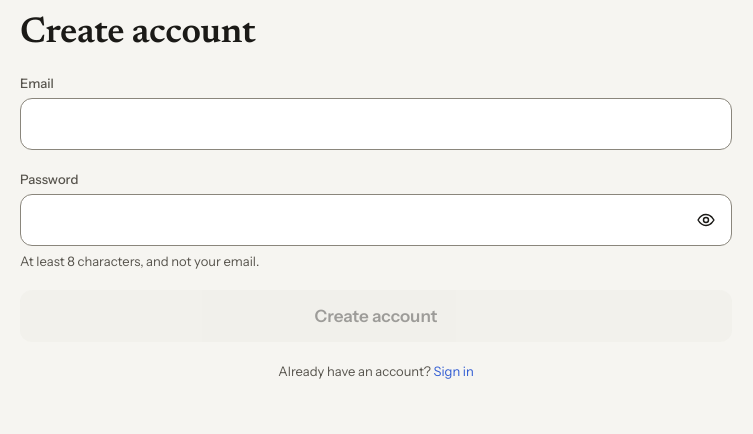
Test: Create account (AA-1) › shows the rate limit with the seconds to wait
The image size is (753, 434).
Type "example@gmail.com" into the field labelled "Email". click: (376, 124)
box: x1=20 y1=98 x2=732 y2=150
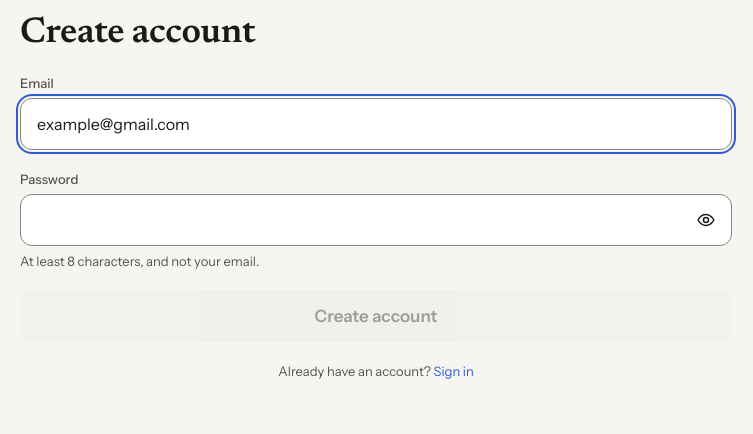
Type "quiet river 42" into the password field labelled "Password". click: (376, 220)
box: x1=20 y1=194 x2=732 y2=246
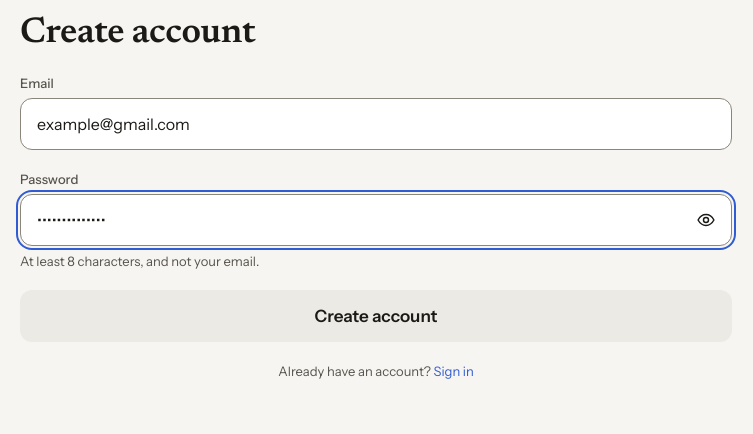
Click the button "Create account". click: (376, 316)
box: x1=20 y1=290 x2=732 y2=342
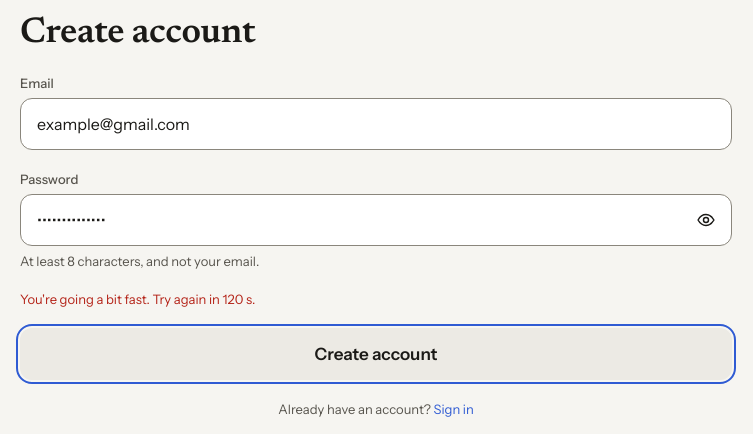
Expected: the message shows "Try again in 120 s.", x1=20 y1=291 x2=255 y2=307
